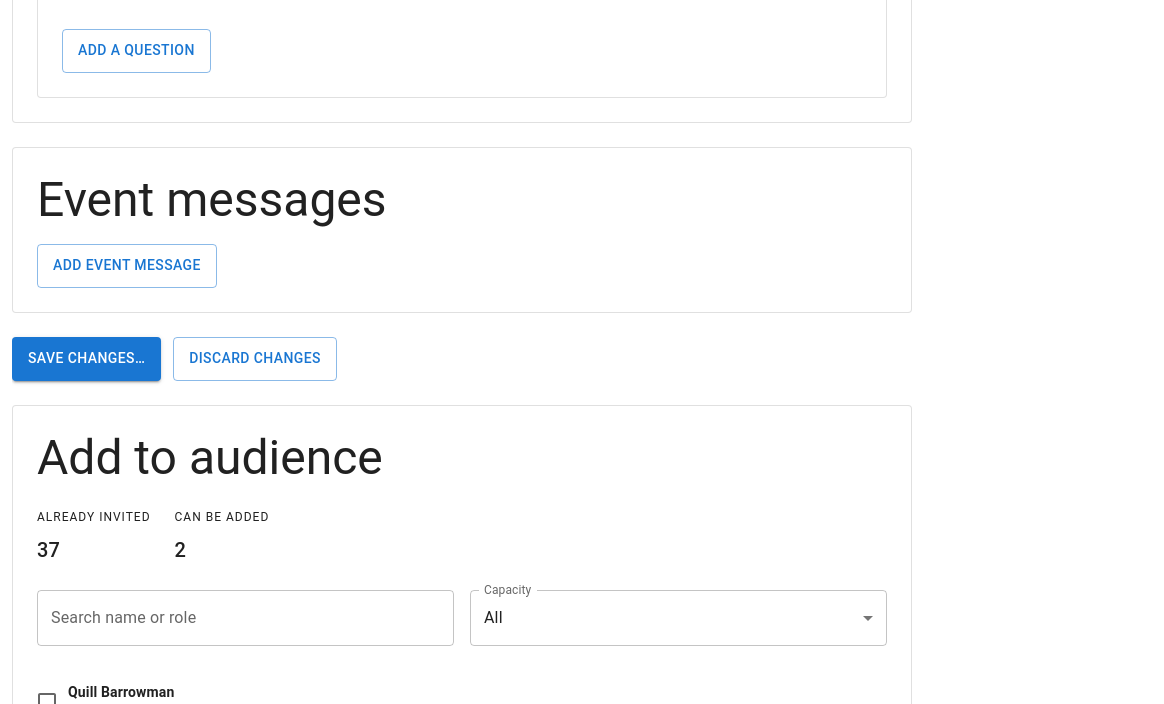
Test: the amendment editor › says so rather than moving on when nothing was typed
(page scrolled)
Click the button with test id "continue-to-review". click: (87, 359)
box: [12, 337, 161, 381]
(page scrolled)
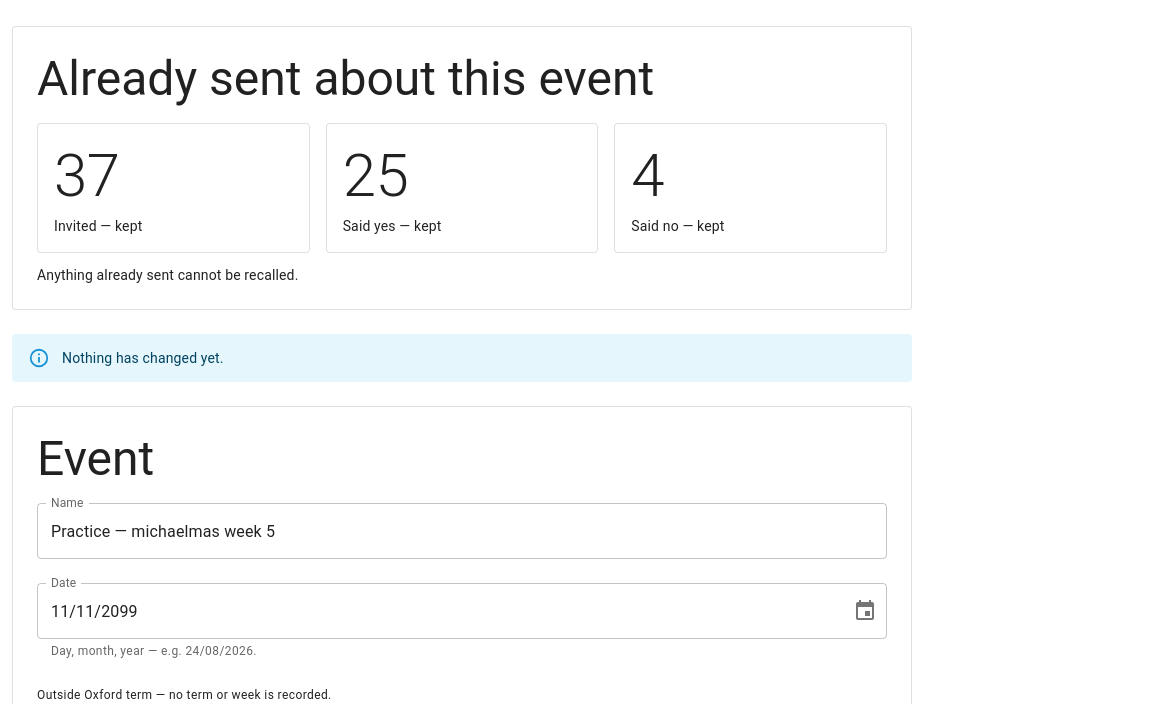
Now the message "Nothing has changed yet." is shown, box [12, 334, 912, 382]
